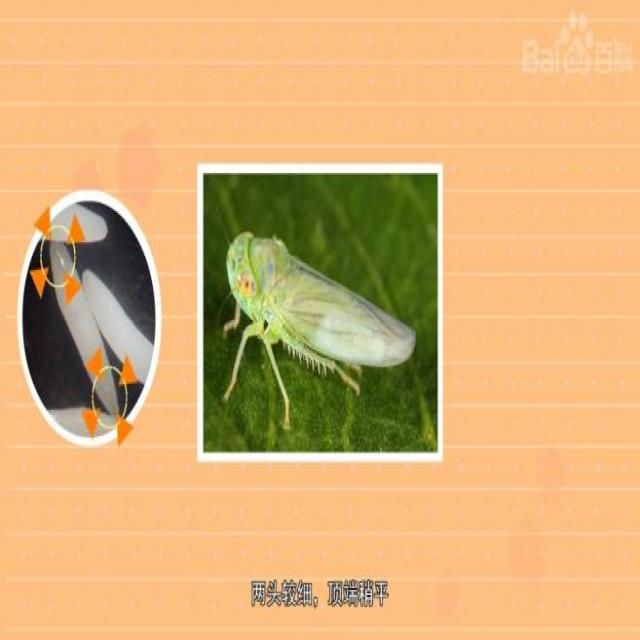Yechan: (221, 228, 419, 418)
